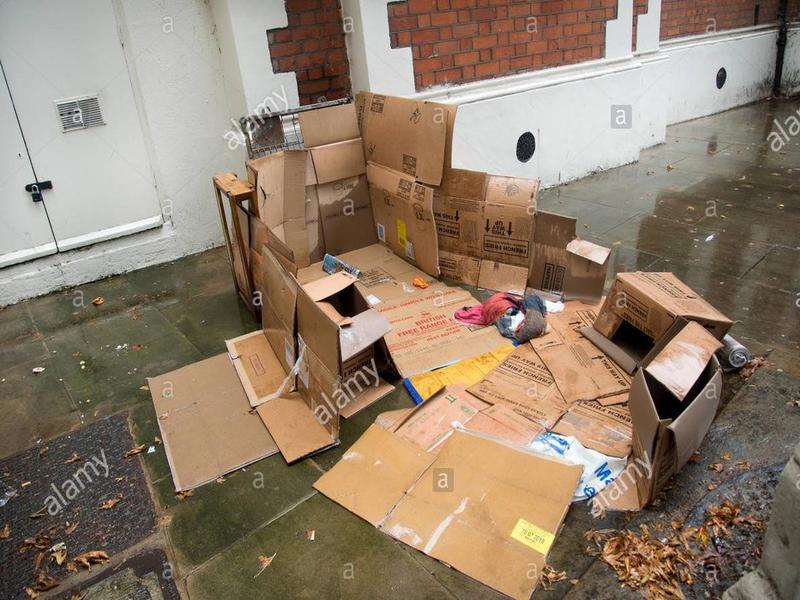cardboard: (314, 383, 628, 599), (142, 248, 344, 493), (611, 317, 732, 498), (355, 85, 459, 293), (447, 169, 607, 304), (239, 104, 377, 258), (590, 261, 750, 363), (300, 274, 389, 384)
